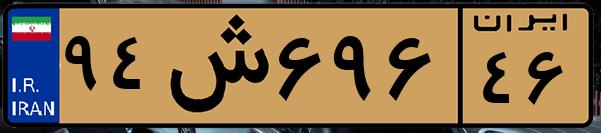4: (475, 38, 525, 113), (110, 28, 158, 98)
6: (270, 28, 330, 110), (385, 28, 445, 110), (525, 38, 570, 115)
9: (330, 28, 385, 110), (57, 26, 110, 100)
ش: (158, 12, 270, 120)
